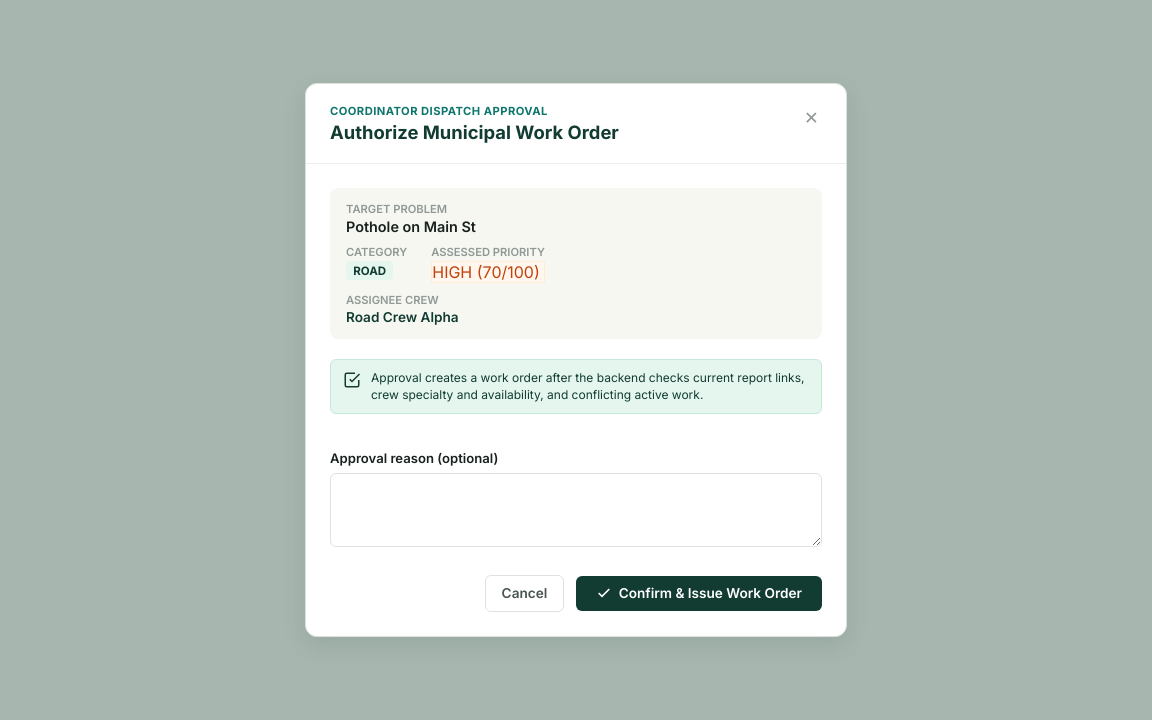
Scenario: ApproveRecommendationModal › shows a server error message and keeps the modal open on failure
Click the button "Confirm & Issue Work Order": coordinates (699, 593) [576,576,822,611]
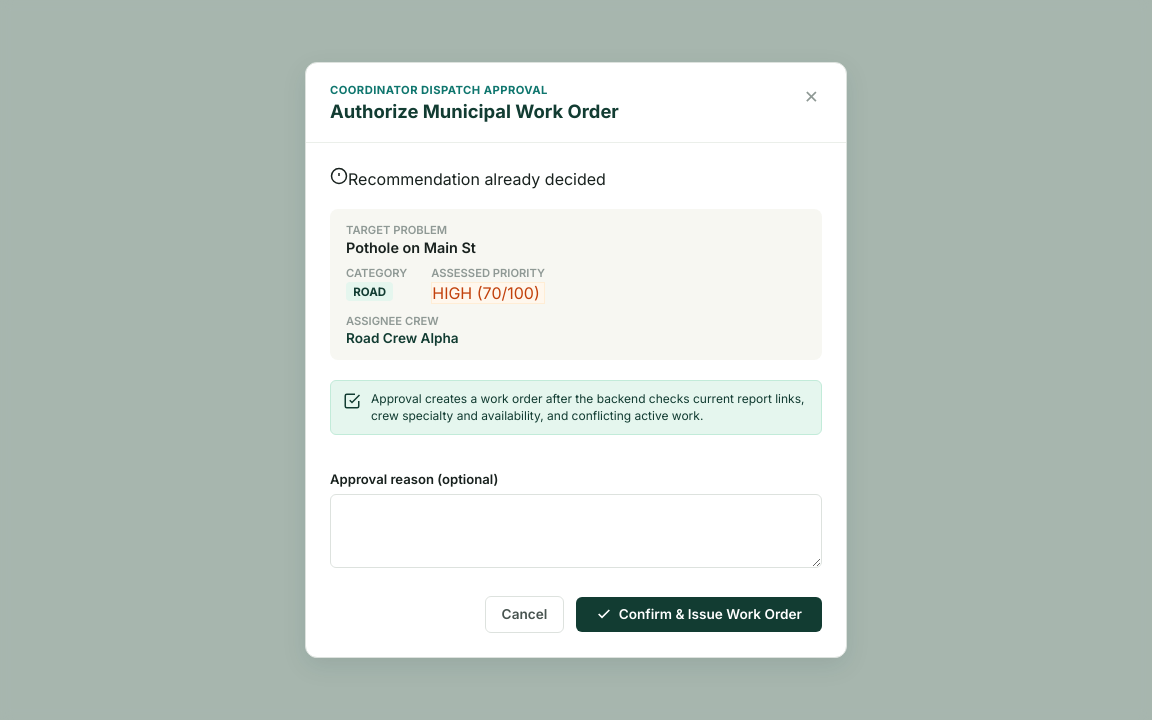
Now the text "Recommendation already decided" is shown, box [348,169,606,189]
